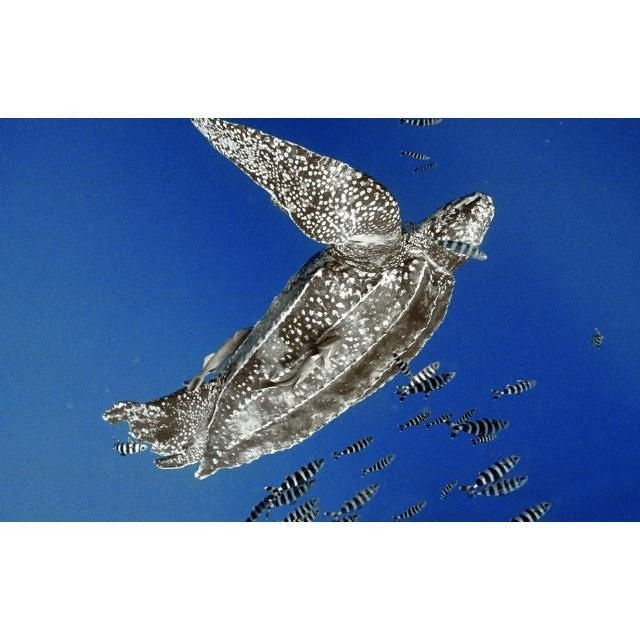turtle: (106, 120, 498, 480)
